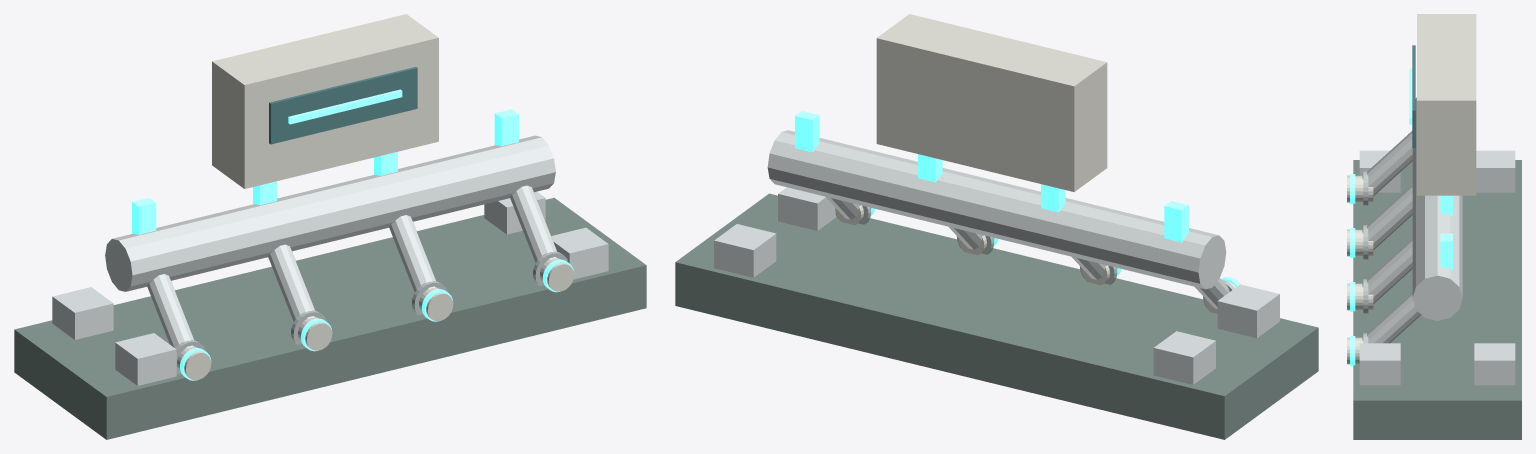
File: s7-i01-feed-distributor-4.glb
3 views of the same model, side by side, from view 1: azimuth 30°, elevation 25°; view 2: azimuth 150°, elevation 25°; view 3: azimuth 270°, elevation 25° (orthographic). The views are drawn at different scales.
Parts seen in each view (by area): view 1: 000_reinforced_industrial_base, 005_distribution_header, 026_header_control_chassis, 027_status_display, 002_mounting_foot, 001_mounting_foot, 004_mounting_foot, 011_outlet_branch_1, 021_outlet_branch_3, 016_outlet_branch_2, 006_outlet_branch_0, 003_mounting_foot (+7 smaller); view 2: 000_reinforced_industrial_base, 026_header_control_chassis, 005_distribution_header, 003_mounting_foot, 001_mounting_foot, 002_mounting_foot, 004_mounting_foot, 010_outlet_active_indicator, 025_outlet_active_indicator; view 3: 000_reinforced_industrial_base, 026_header_control_chassis, 005_distribution_header, 003_mounting_foot, 004_mounting_foot, 001_mounting_foot, 011_outlet_branch_1, 016_outlet_branch_2, 006_outlet_branch_0, 021_outlet_branch_3, 002_mounting_foot, 025_outlet_active_indicator (+10 smaller).
Boxes of the visible parts, x1=… form: 000_reinforced_industrial_base: x1=14, y1=197, x2=646, y2=439; 005_distribution_header: x1=105, y1=135, x2=555, y2=291; 026_header_control_chassis: x1=212, y1=14, x2=438, y2=188; 027_status_display: x1=269, y1=67, x2=417, y2=144; 002_mounting_foot: x1=115, y1=333, x2=176, y2=385; 001_mounting_foot: x1=52, y1=287, x2=113, y2=339; 004_mounting_foot: x1=551, y1=227, x2=608, y2=279; 011_outlet_branch_1: x1=268, y1=244, x2=315, y2=321; 021_outlet_branch_3: x1=510, y1=185, x2=557, y2=262; 016_outlet_branch_2: x1=389, y1=215, x2=435, y2=292; 006_outlet_branch_0: x1=147, y1=274, x2=193, y2=348; 003_mounting_foot: x1=484, y1=191, x2=545, y2=234; 000_reinforced_industrial_base: x1=675, y1=193, x2=1318, y2=439; 026_header_control_chassis: x1=876, y1=14, x2=1107, y2=191; 005_distribution_header: x1=767, y1=130, x2=1226, y2=289; 003_mounting_foot: x1=714, y1=224, x2=776, y2=277; 001_mounting_foot: x1=1153, y1=331, x2=1215, y2=384; 002_mounting_foot: x1=1217, y1=284, x2=1279, y2=338; 004_mounting_foot: x1=778, y1=187, x2=836, y2=230; 010_outlet_active_indicator: x1=1164, y1=201, x2=1188, y2=242; 025_outlet_active_indicator: x1=795, y1=111, x2=819, y2=152; 000_reinforced_industrial_base: x1=1353, y1=160, x2=1521, y2=439; 026_header_control_chassis: x1=1417, y1=14, x2=1476, y2=195; 005_distribution_header: x1=1412, y1=97, x2=1462, y2=320; 003_mounting_foot: x1=1474, y1=343, x2=1515, y2=385; 004_mounting_foot: x1=1359, y1=343, x2=1400, y2=385; 001_mounting_foot: x1=1476, y1=150, x2=1515, y2=192; 011_outlet_branch_1: x1=1362, y1=184, x2=1412, y2=250; 016_outlet_branch_2: x1=1362, y1=238, x2=1412, y2=303; 006_outlet_branch_0: x1=1362, y1=131, x2=1412, y2=196; 021_outlet_branch_3: x1=1362, y1=292, x2=1421, y2=343; 002_mounting_foot: x1=1359, y1=150, x2=1400, y2=192; 025_outlet_active_indicator: x1=1440, y1=233, x2=1452, y2=269.
Bounding box in the file's own units: 1.25 × 0.635 × 0.3838.
